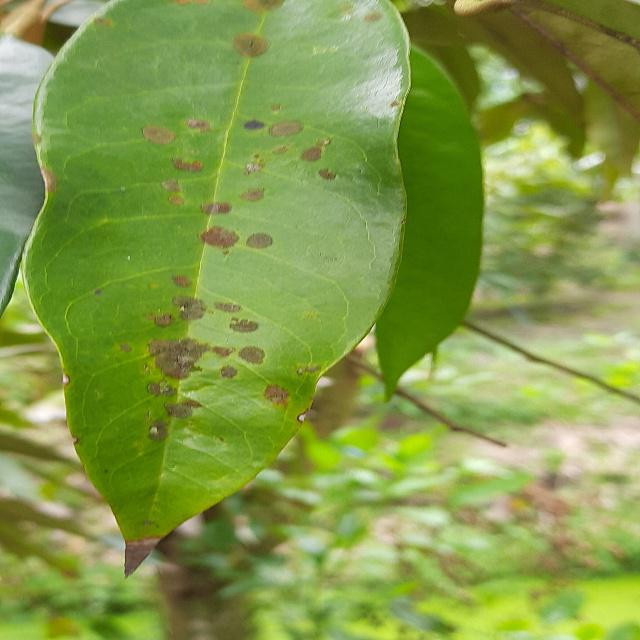Algal Leaf Spot: (17, 0, 418, 587)
